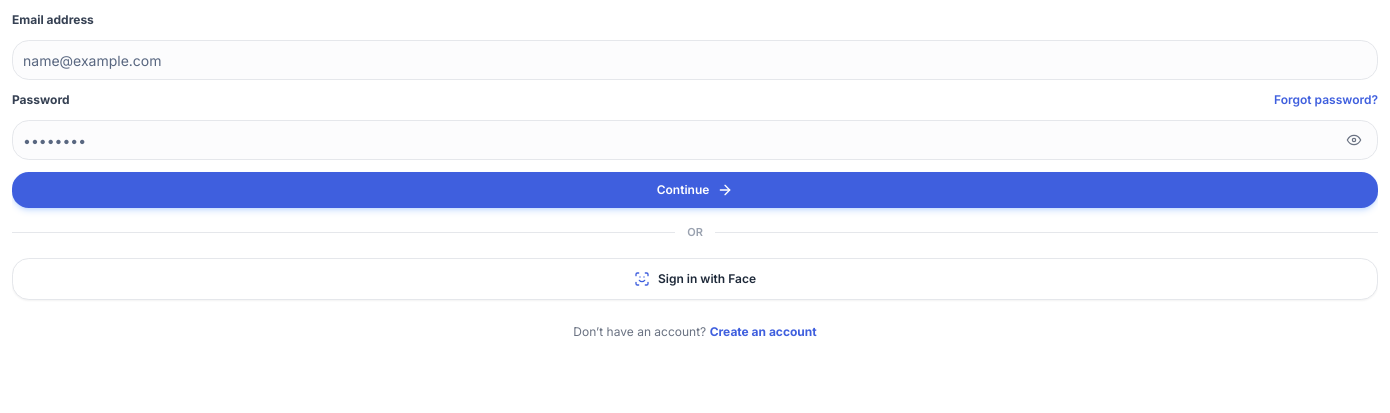
Test case: LoginForm › shows validation errors for invalid input
What coordinates should you click on to do the following:
click the button "Continue"
I would click on:
 (695, 190)
Its box is 12,172 -> 1378,208.
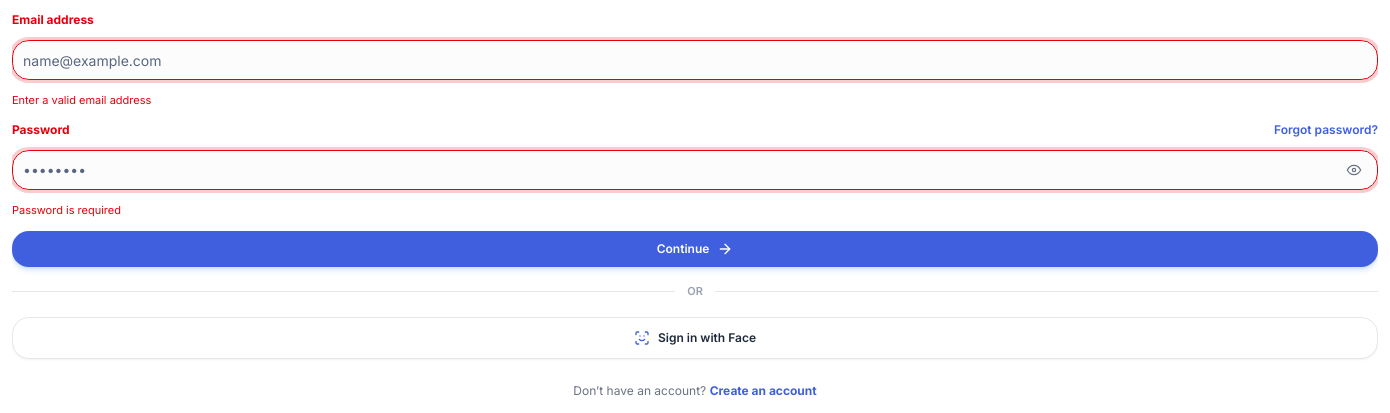
Check: the text "Enter a valid email address" is shown, box 12,93 -> 151,107
Check: the text "Password is required" is shown, box 12,203 -> 121,217
